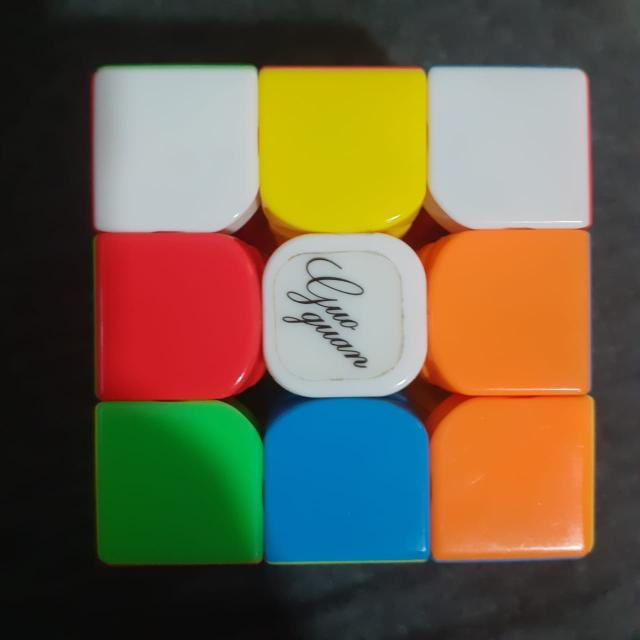Blue: (267, 402, 428, 558)
Green: (96, 403, 260, 562)
Orange: (432, 230, 588, 394), (436, 400, 596, 552)
Red: (96, 237, 252, 396)
White: (266, 235, 424, 395), (99, 70, 254, 230), (429, 70, 585, 226)
Yellow: (262, 72, 421, 226)
